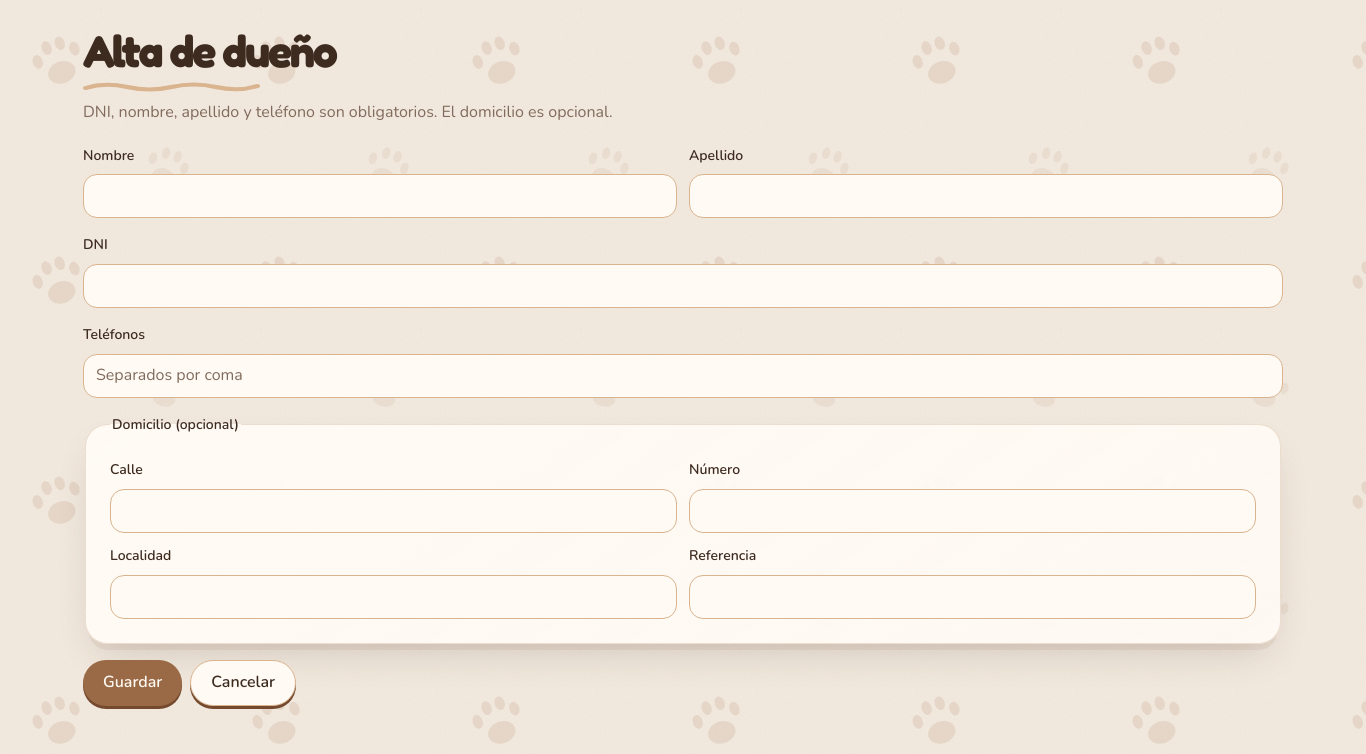
Test: Alta de dueño › un DNI repetido bloquea el alta sin pedir confirmación
In the field labelled "Nombre": (380, 196) [83,174,677,218], type "Ana"
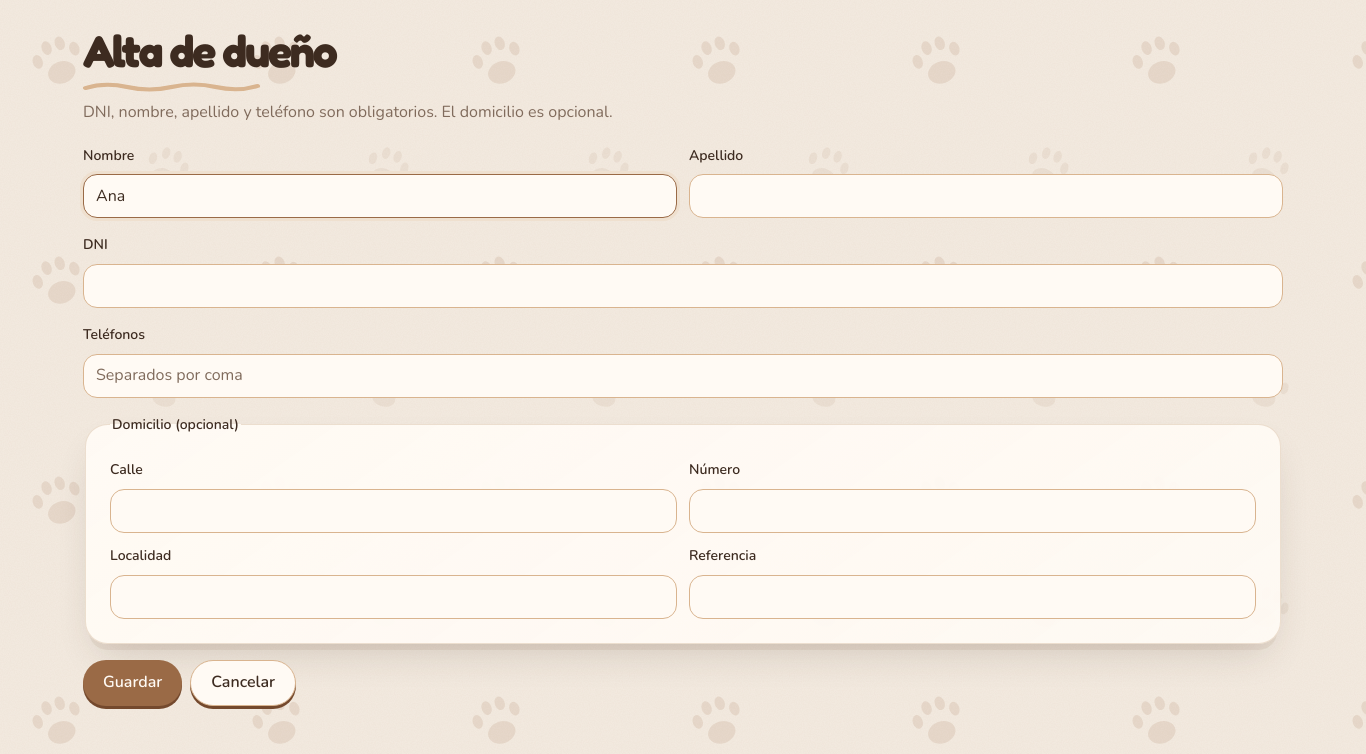
In the field labelled "Apellido": (986, 196) [689,174,1283,218], type "Paz"
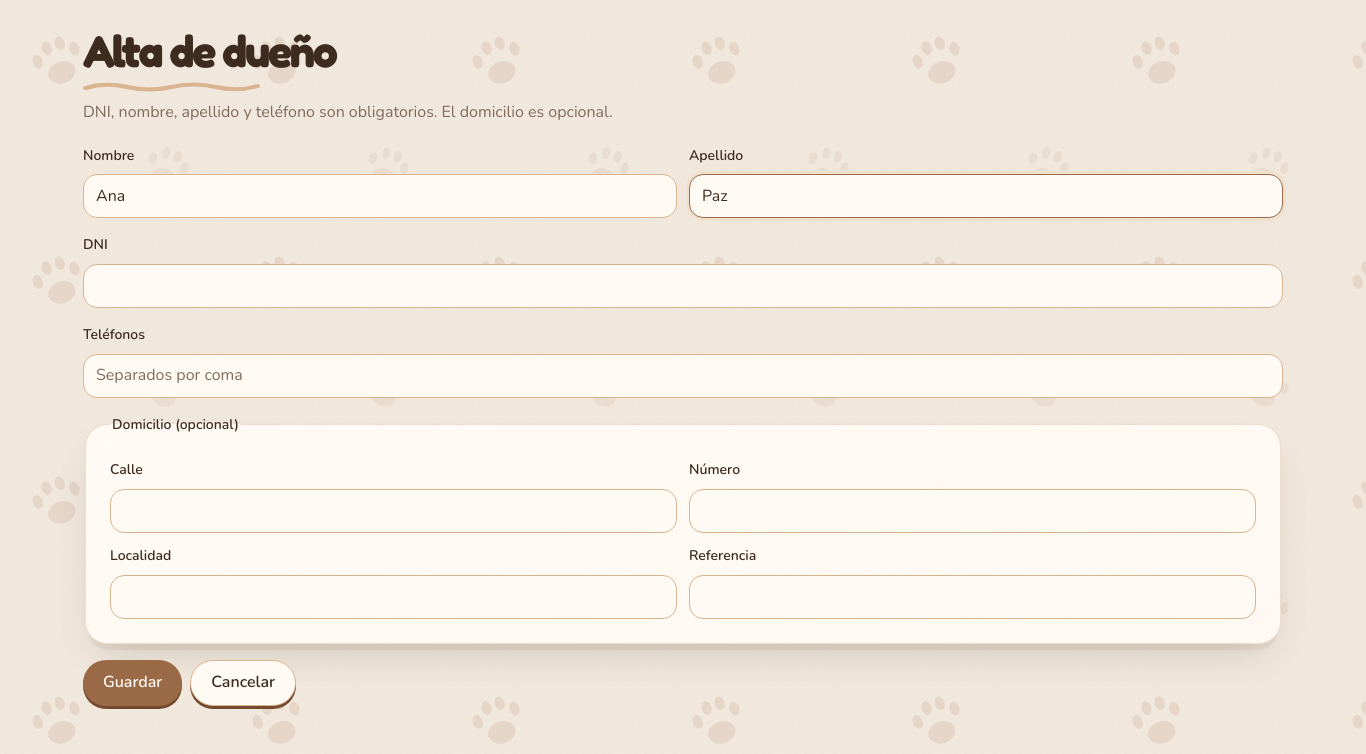
In the field labelled "DNI": (683, 286) [83,264,1283,308], type "30111222"
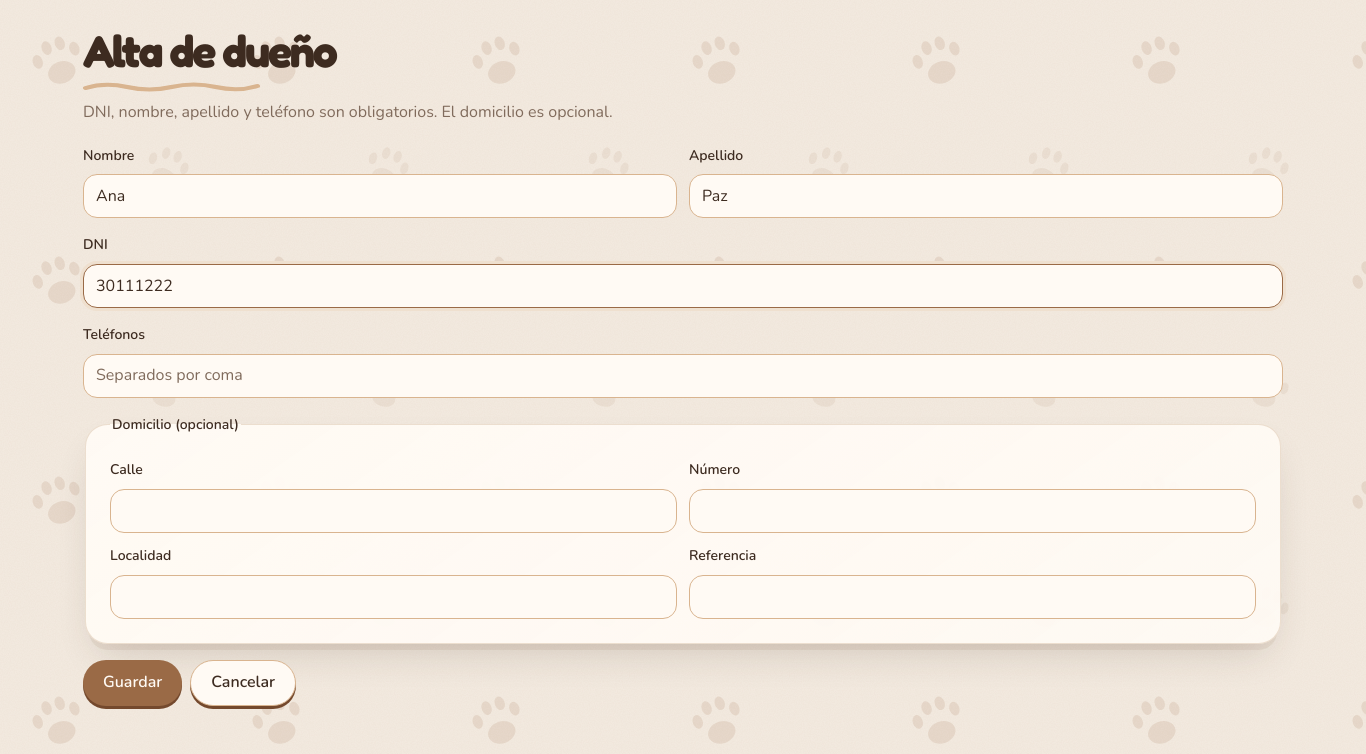
In the field labelled "Teléfonos": (683, 376) [83,354,1283,398], type "1144556677"
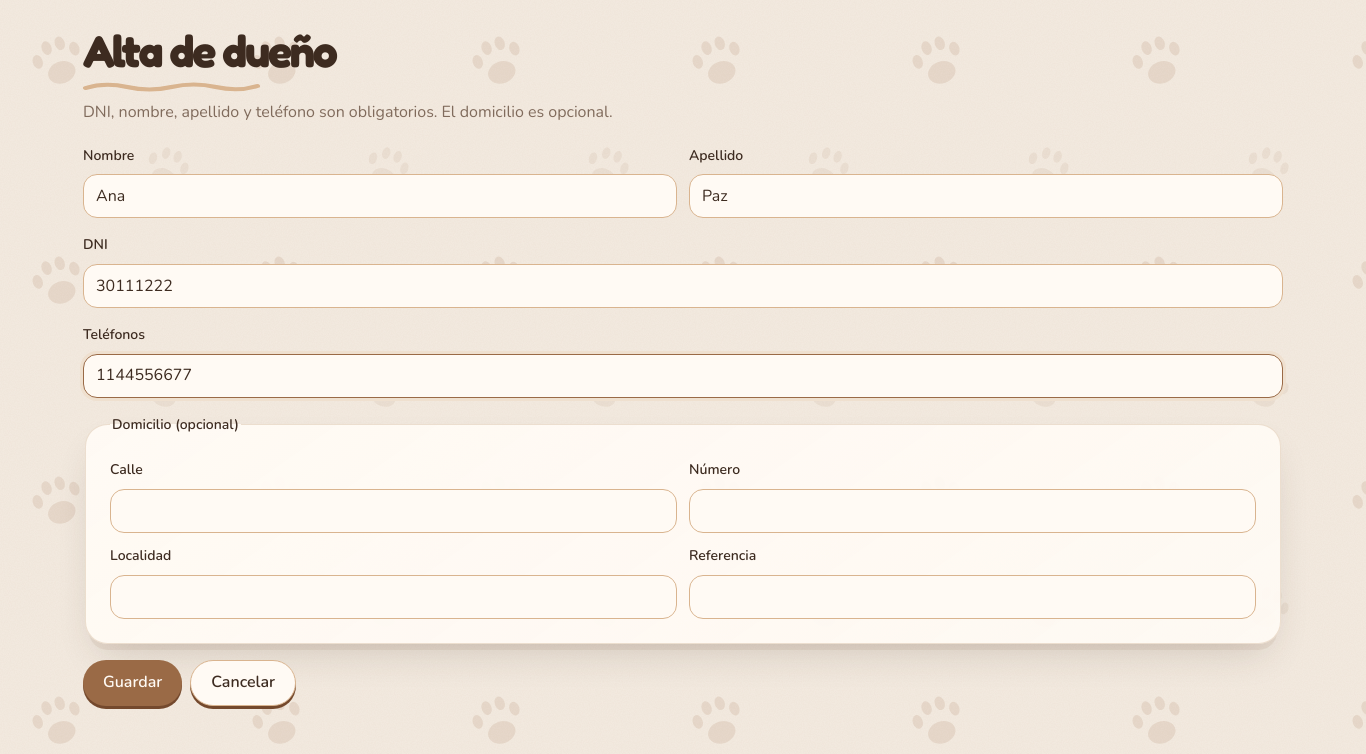
Click the button "Guardar": (133, 683) [83,660,182,706]
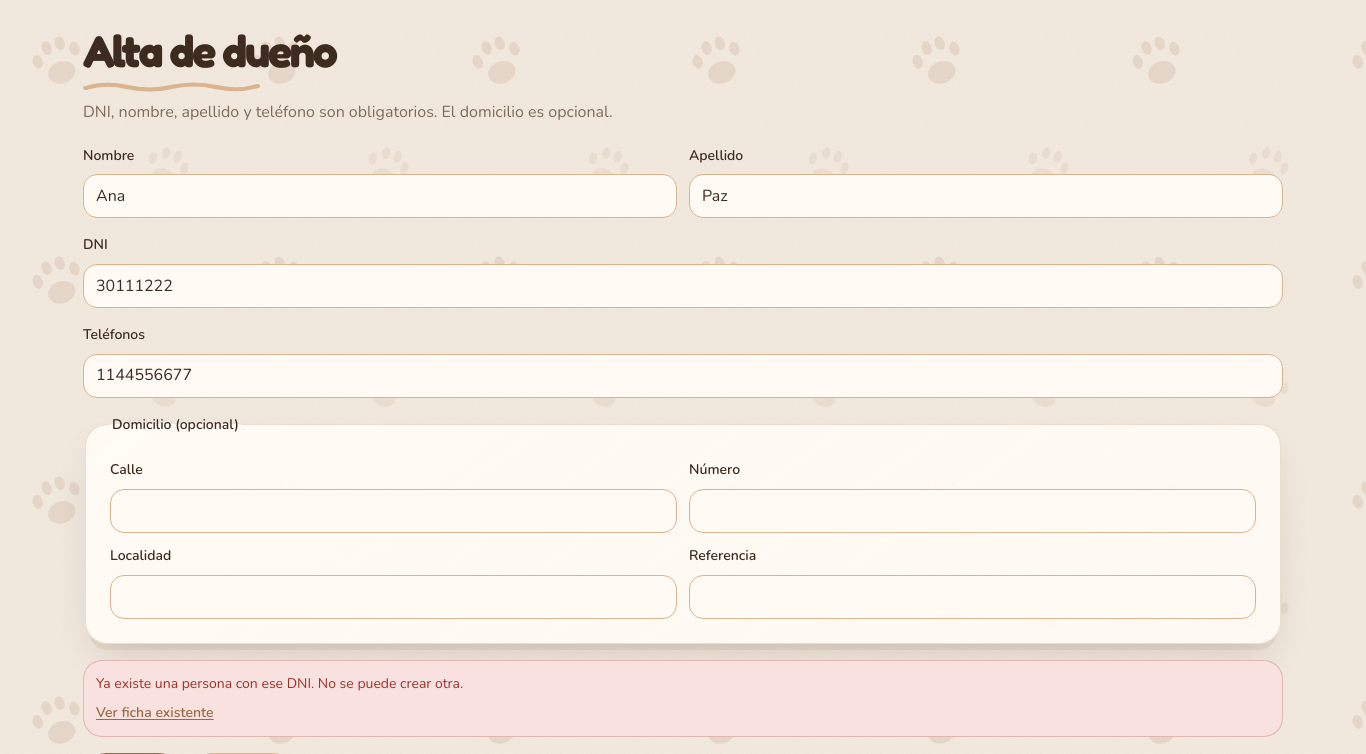
Expected: the message shows "Ya existe una persona con ese DNI. No se puede crear otra.", [96,674,463,693]
